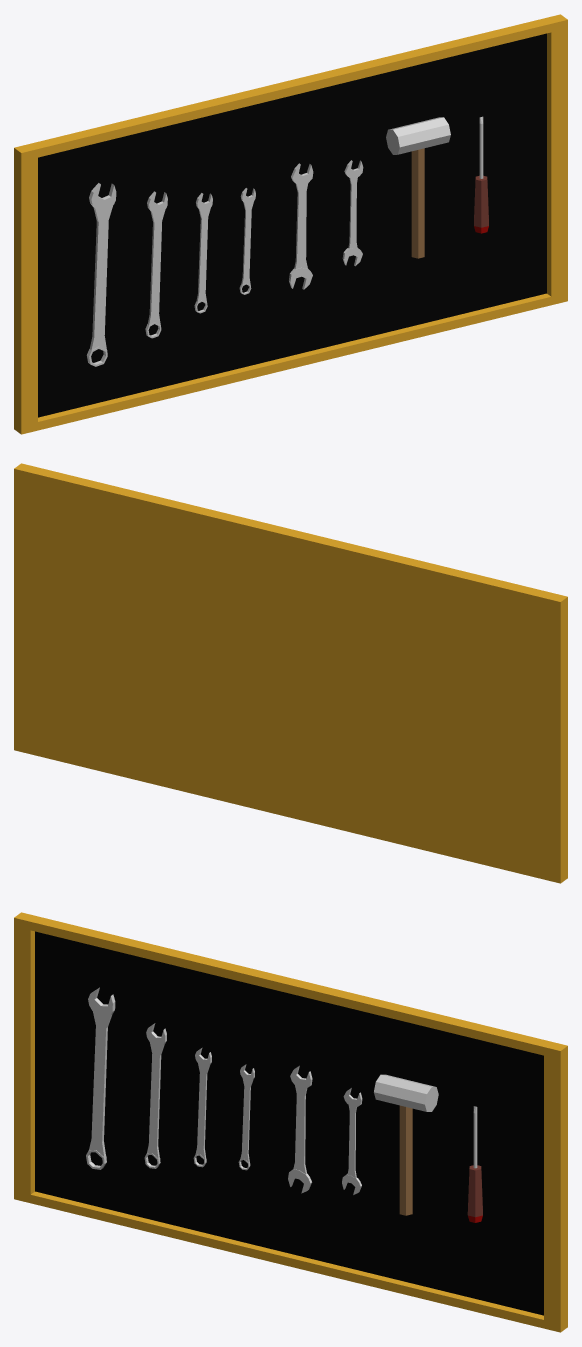
Rendered from Me_Tools_Board.fbx.
3 views of the same model, one above another, from view 1: azimuth 30°, elevation 25°; view 2: azimuth 150°, elevation 25°; view 3: azimuth 330°, elevation 25° (orthographic).
Visible parts, largest first — view 1: Me_Tools_Board; view 2: Me_Tools_Board; view 3: Me_Tools_Board.
Boxes of the visible parts, <box> form: Me_Tools_Board: <box>14,14,567,434</box>; Me_Tools_Board: <box>14,463,567,883</box>; Me_Tools_Board: <box>14,912,567,1332</box>.
Bounding box in the file's own units: 1398 × 74.13 × 688.
